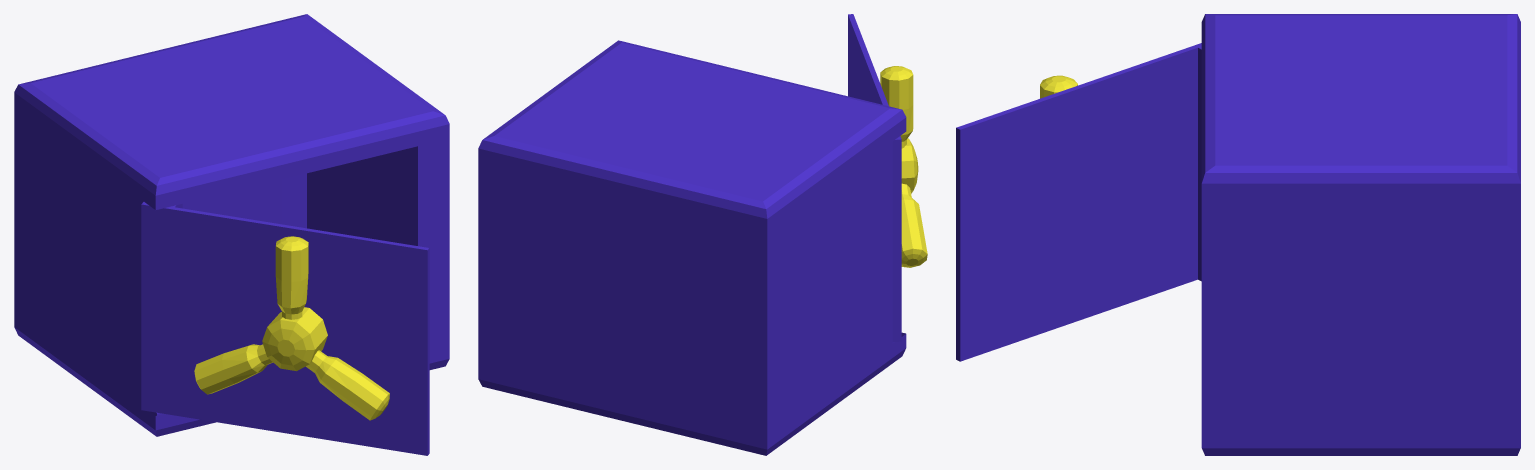
Rendered from MoneySafe.fbx.
The picture shows the model from 3 angles, left to right: view 1: azimuth 30°, elevation 25°; view 2: azimuth 150°, elevation 25°; view 3: azimuth 270°, elevation 25°; orthographic projection. The views are drawn at different scales.
Visible parts, largest first — view 1: Case, Door, Handle; view 2: Case, Door, Handle; view 3: Case, Door, Handle.
Boxes of the visible parts, x1,y1,x2,y2 form: Case: (14,14,449,436); Door: (141,202,429,455); Handle: (194,236,389,420); Case: (478,40,906,455); Door: (848,14,901,342); Handle: (880,66,927,267); Case: (1201,14,1520,455); Door: (956,43,1201,361); Handle: (1040,75,1077,98).
Size of the model in its own units: 60.99 by 50 by 88.49.
